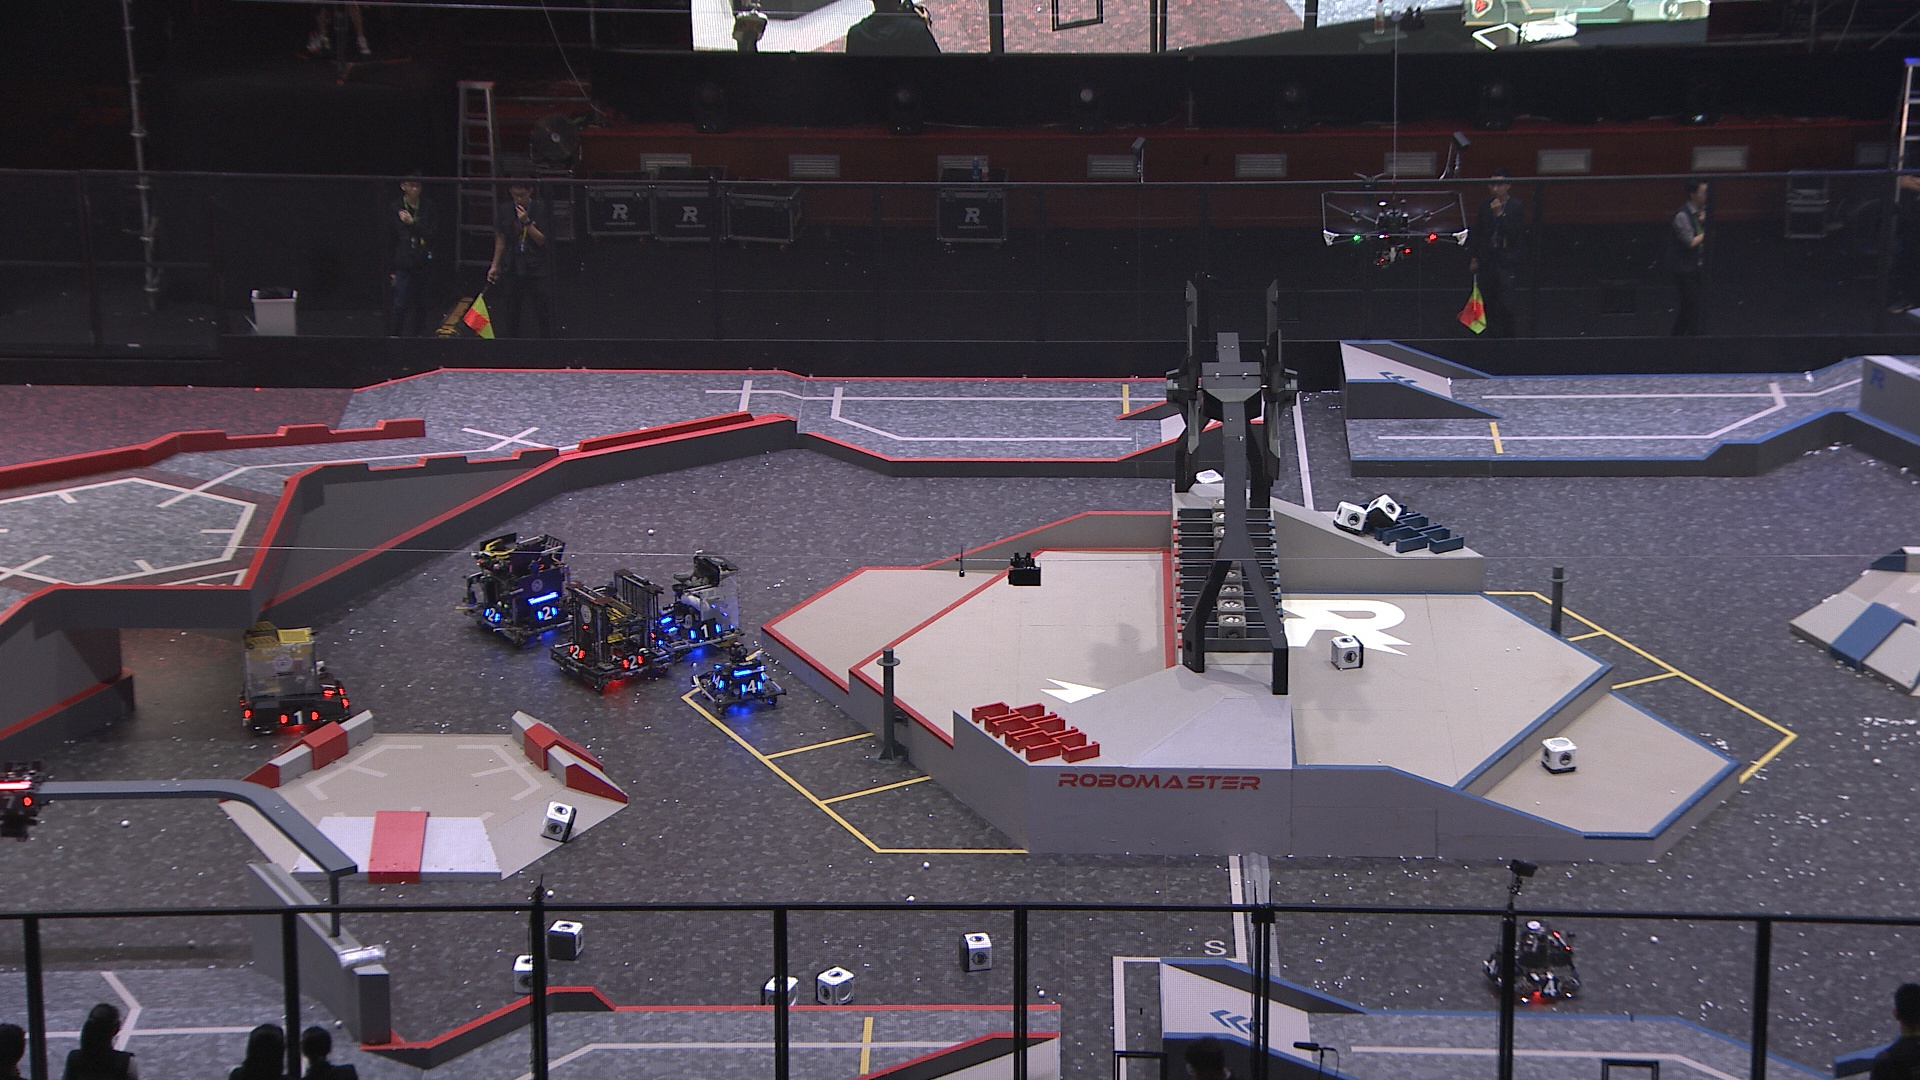armor: (686, 618, 723, 644), (276, 707, 320, 727), (0, 790, 32, 812), (1538, 977, 1565, 1001), (622, 651, 645, 673), (741, 678, 765, 698), (534, 603, 556, 622), (481, 604, 501, 626), (708, 670, 727, 694), (1482, 953, 1499, 978), (319, 675, 338, 698), (566, 644, 588, 659)
car: (460, 526, 593, 647), (549, 566, 675, 692), (229, 617, 353, 737), (650, 546, 746, 665), (1477, 916, 1588, 1007), (684, 626, 793, 717)
